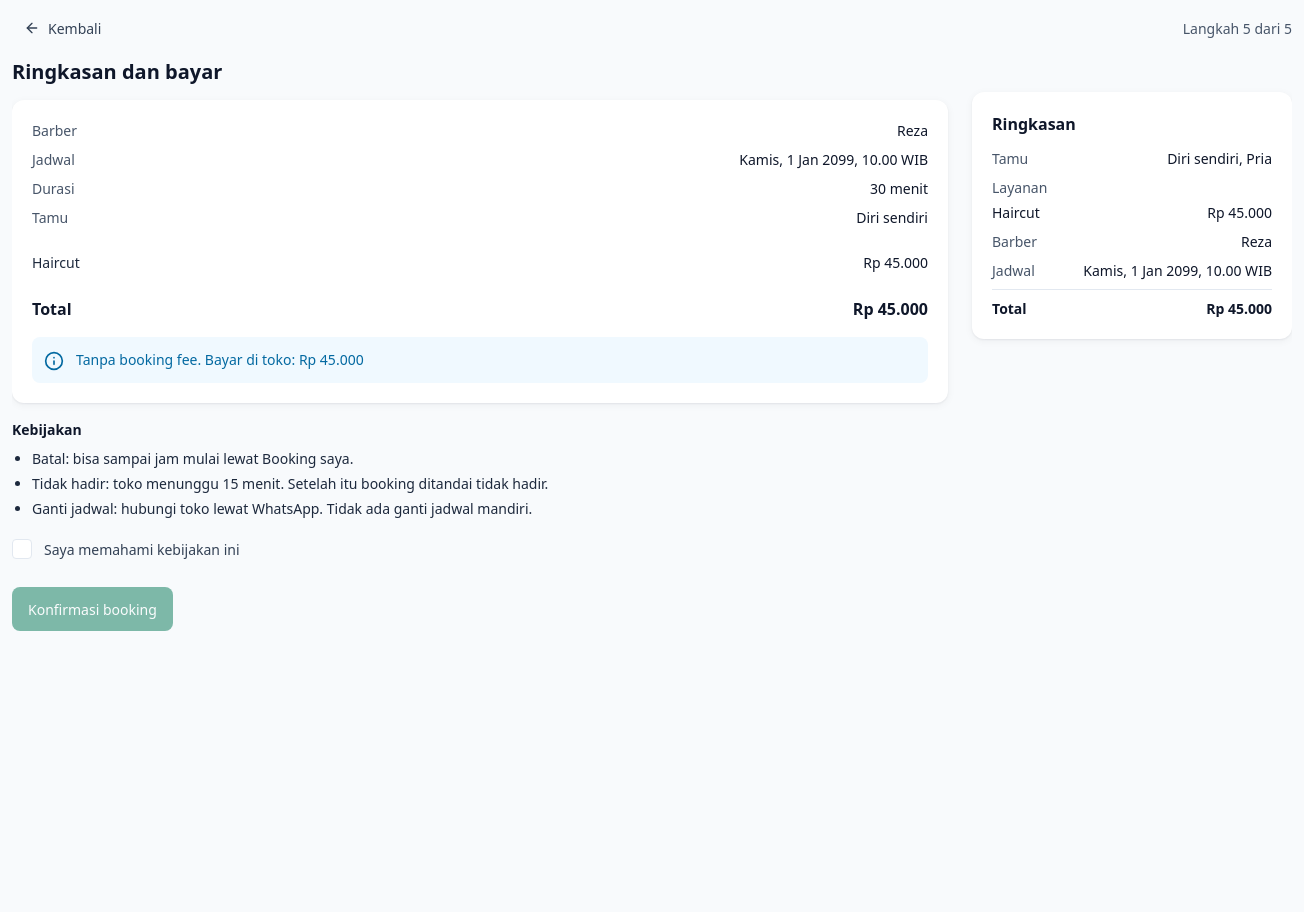
Test: ringkasan dan bayar › fee mati langsung ke layar status tanpa pembayaran
Click the checkbox named "Saya memahami kebijakan ini" at (22, 549), box [12,539,32,559]
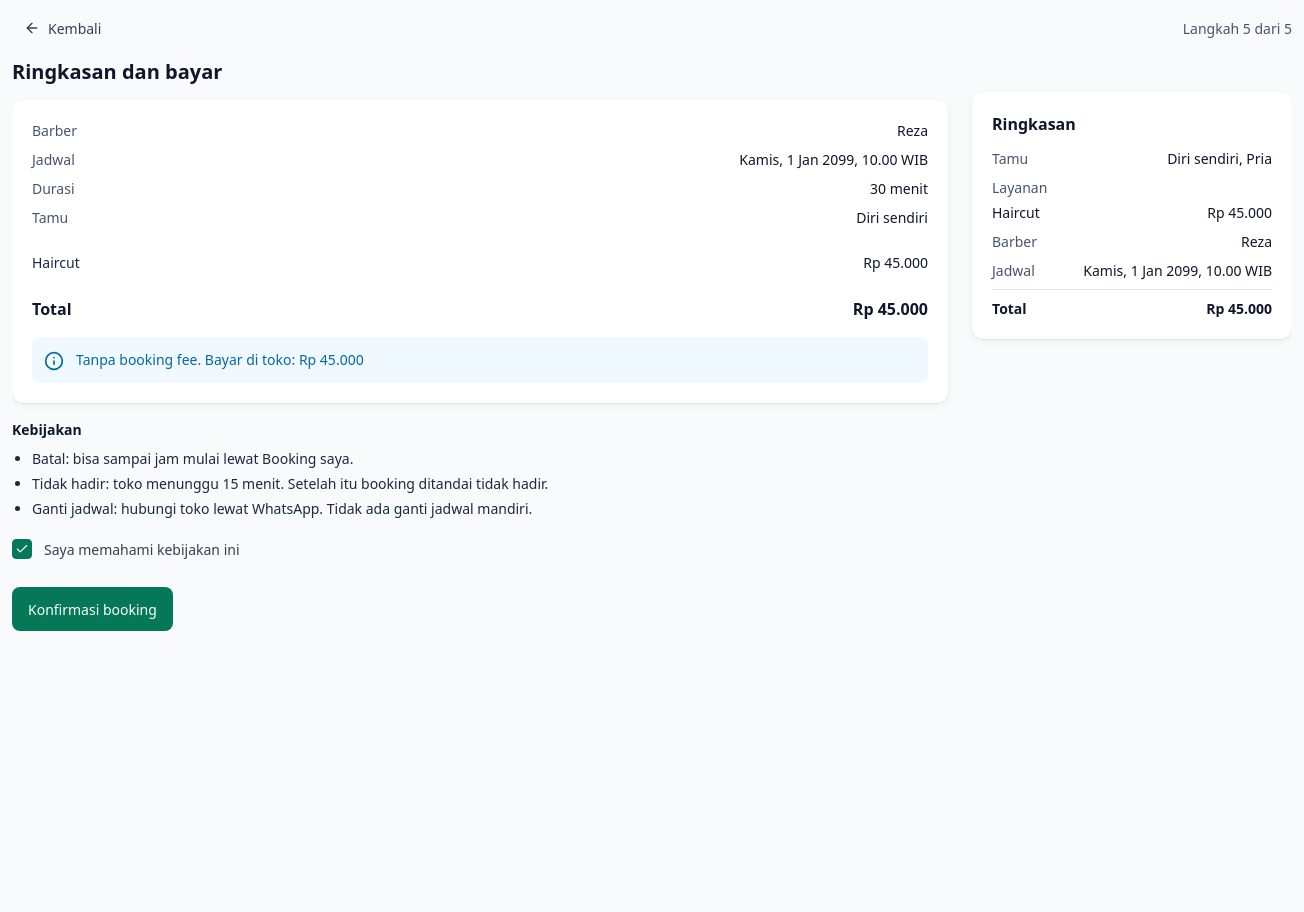
Click the button "Konfirmasi booking" at (92, 609), box [12,587,173,631]
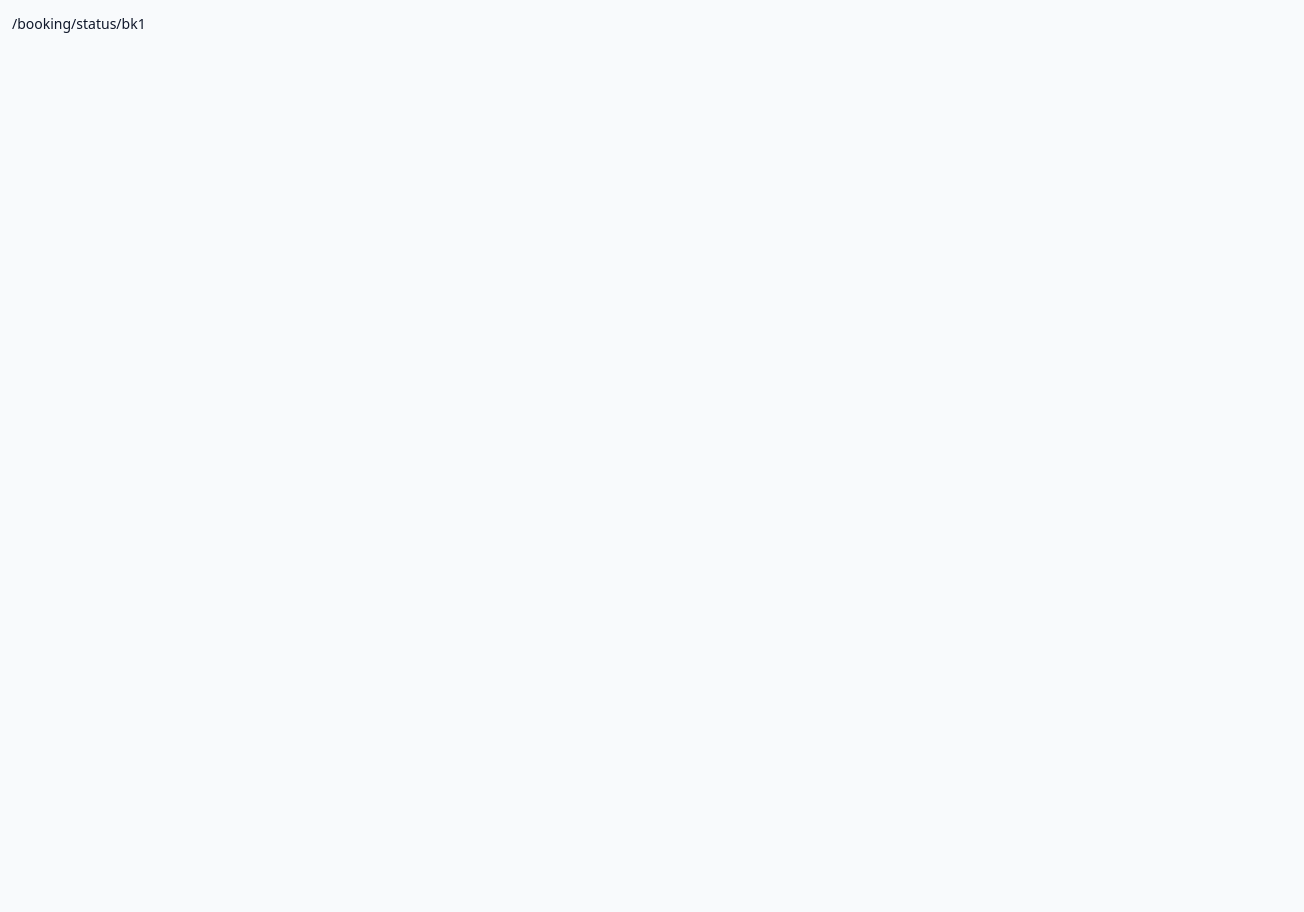
Expected: the text with test id "path" reads "/booking/status/bk1", [12,14,146,33]
